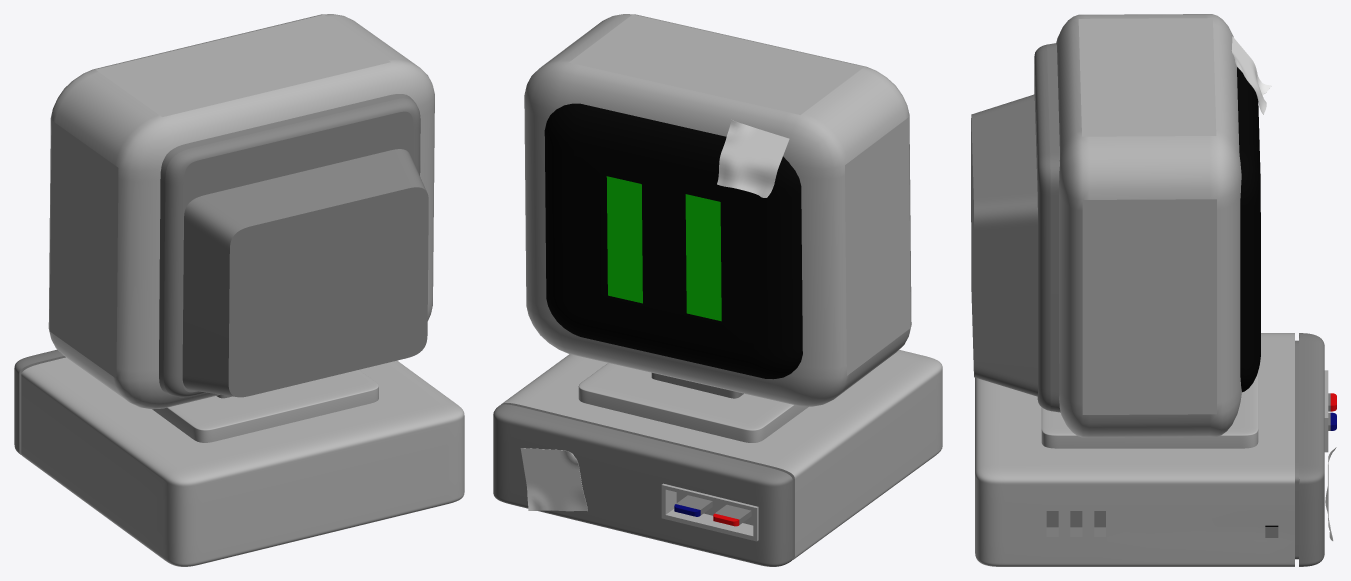
3 views of the same model, side by side, from view 1: azimuth 30°, elevation 25°; view 2: azimuth 150°, elevation 25°; view 3: azimuth 270°, elevation 25° (orthographic). The views are drawn at different scales.
Parts seen in each view (by area): view 1: PC; view 2: PC, Papier.003, Papier.002; view 3: PC, Papier.003.
Part boxes in pixels (x1,y1,x2,y2): PC: (14,14,464,566); PC: (493,14,942,566); Papier.003: (717,120,789,197); Papier.002: (520,448,587,511); PC: (971,14,1336,566); Papier.003: (1231,36,1271,114).
Bounding box in the file's own units: 53.59 × 65.58 × 51.46.
